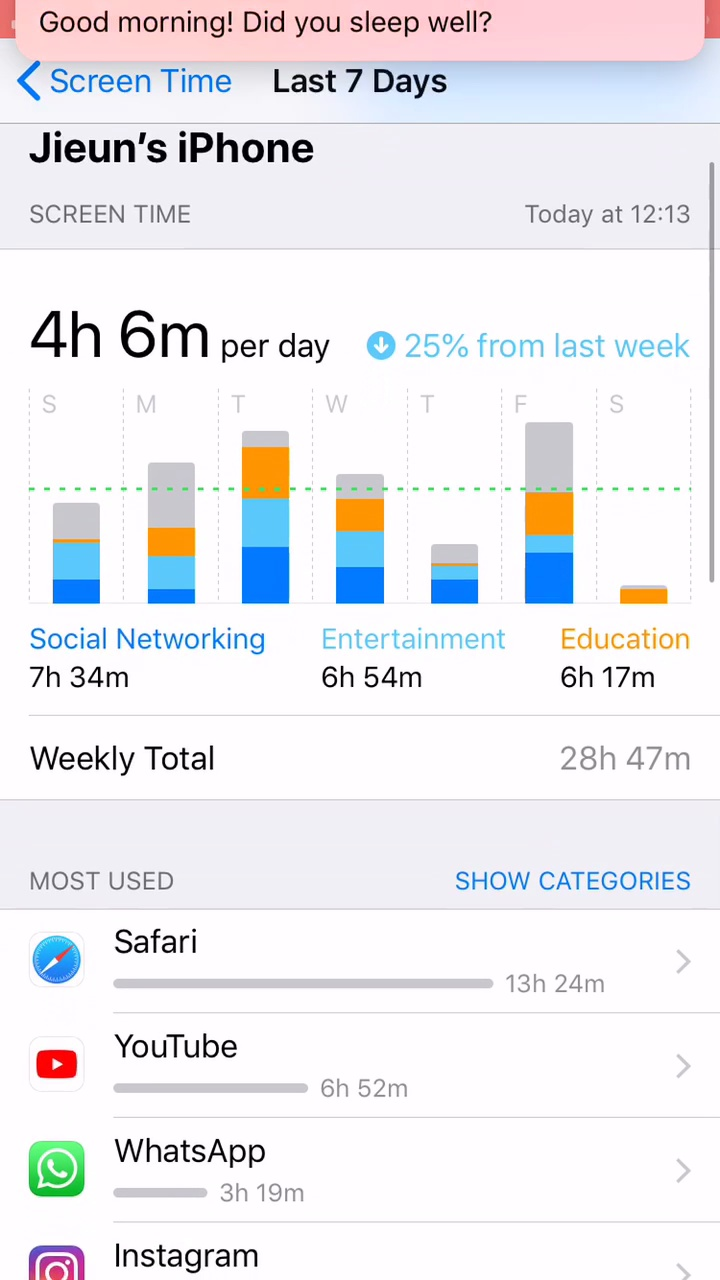use_over: (21, 621, 706, 786)
week: (258, 60, 473, 111)
